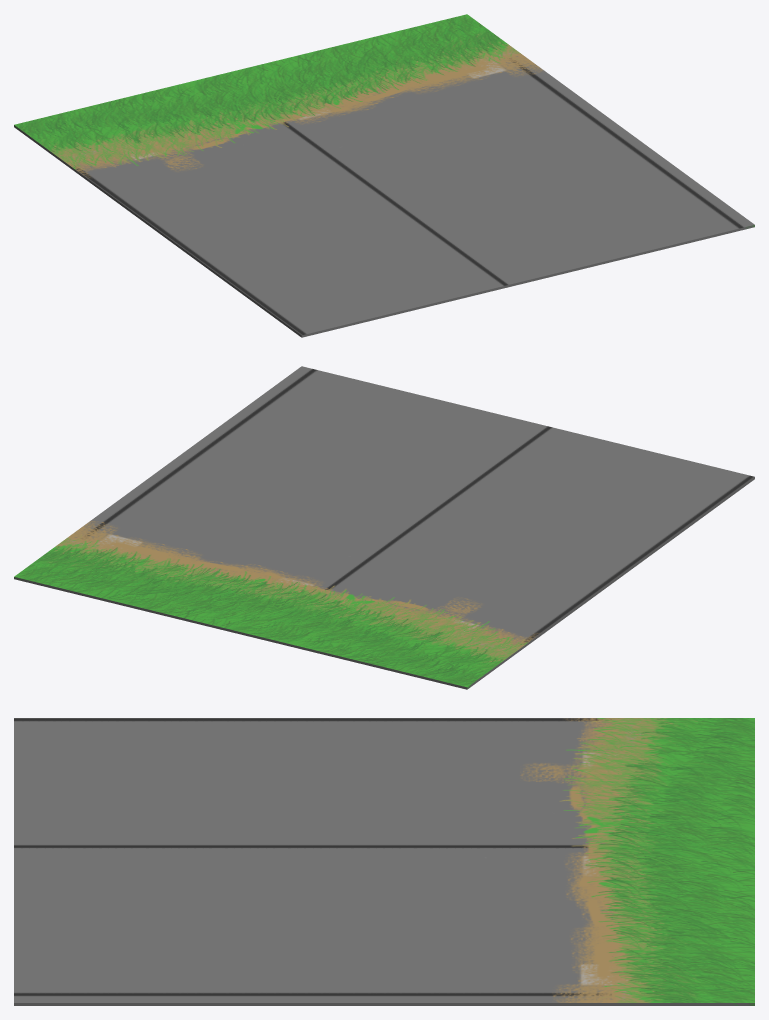
The model's file is BakGround.fbx.
3 renders of one model, top to bottom at view 1: azimuth 30°, elevation 25°; view 2: azimuth 150°, elevation 25°; view 3: azimuth 270°, elevation 25°, orthographic. The views are drawn at different scales.
Visible parts, largest first — view 1: pCube1; view 2: pCube1; view 3: pCube1.
Part boxes in pixels (left/top/right/bottom): pCube1: left=14, top=14, right=754, bottom=337; pCube1: left=14, top=366, right=754, bottom=689; pCube1: left=14, top=718, right=754, bottom=1005.
Bounding box in the file's own units: 53.81 × 0.2709 × 59.16.
